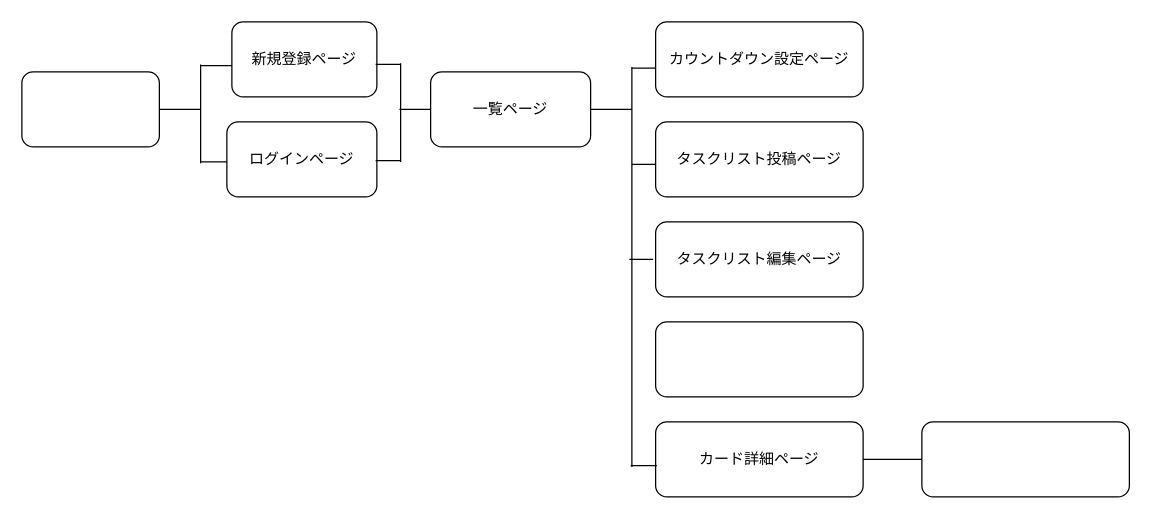
Image size: 1151x519. Some labels were removed from this diagram. Here are the shapes that lost their labels. From the top down, the centre of each, then its label:
(x=90, y=109): TOPページ
(x=758, y=359): カード投稿ページ
(x=1025, y=459): カード編集ページ
